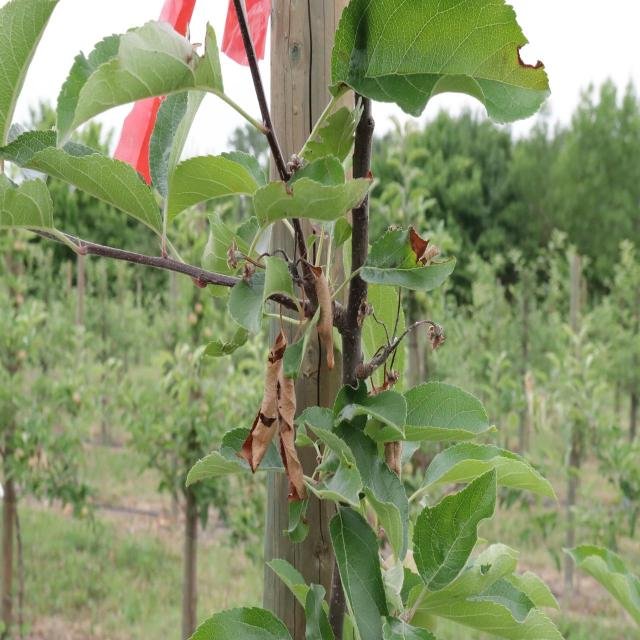-FireBlight-: (259, 300, 307, 495), (309, 264, 343, 372)
